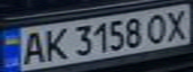1: (90, 19, 112, 53)
3: (69, 21, 93, 56)
5: (106, 17, 127, 52)
8: (124, 16, 148, 47)
A: (15, 28, 48, 65)
K: (39, 25, 69, 62)
O: (142, 11, 172, 45)
X: (160, 7, 193, 42)
